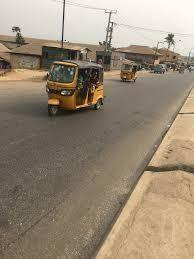keke: (41, 59, 106, 123)
